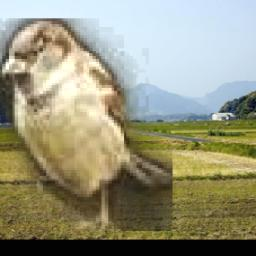Sparrow: (0, 18, 173, 231)
